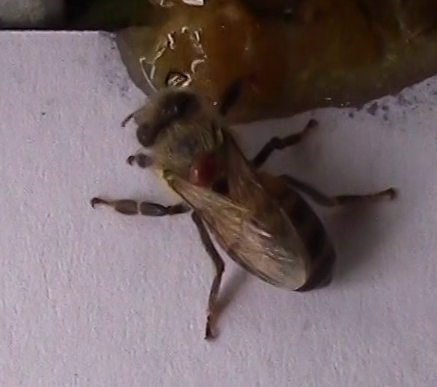Varroa destructor: (183, 148, 223, 188)
